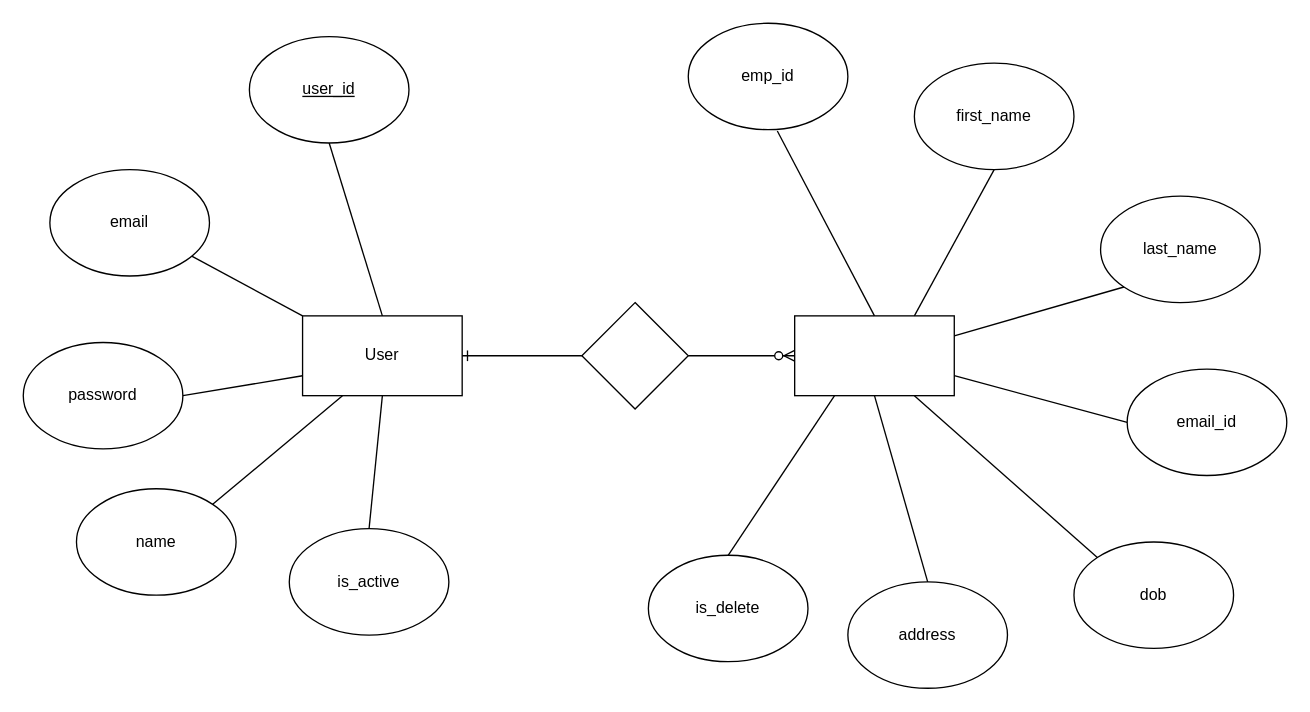
Image size: 1310x712. Some labels were removed from this diagram. The shapes that lost their labels are listed below. From the top down, each one's centre as x and y in pixels, then its label:
point (634, 355): Manage
point (873, 355): Employee
